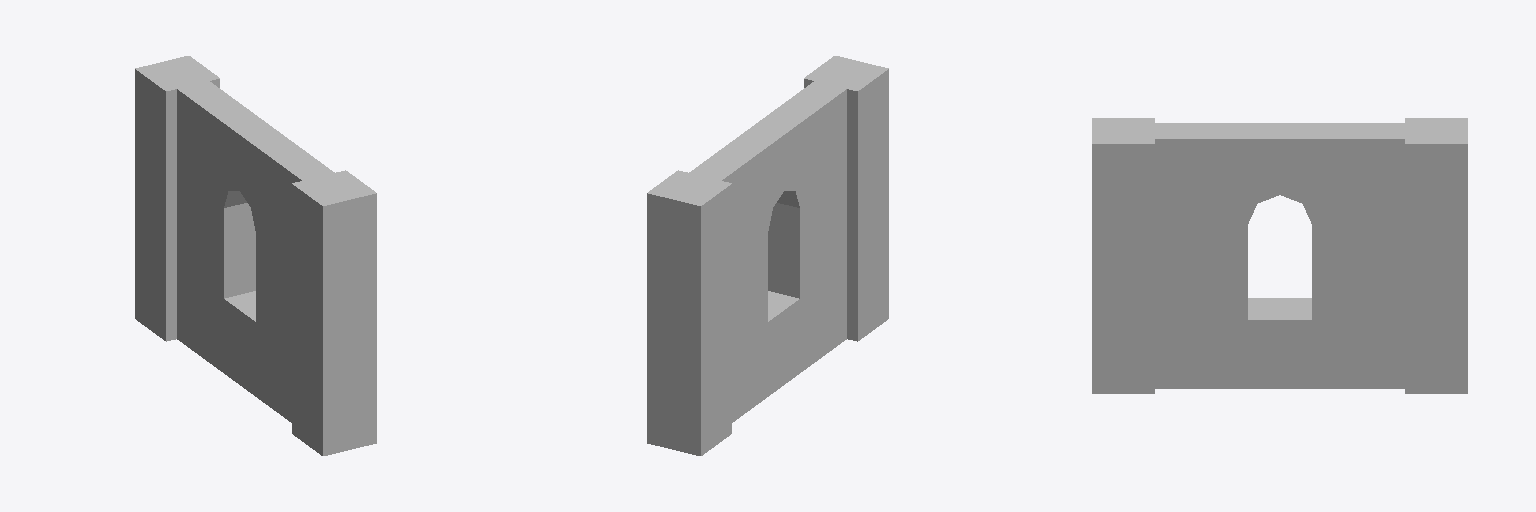
Rendered from Wood_Window_Round_Sill_01.obj.
3 views of the same model, side by side, from view 1: azimuth 30°, elevation 25°; view 2: azimuth 150°, elevation 25°; view 3: azimuth 270°, elevation 25° (orthographic).
Parts seen in each view (by area): view 1: Mesh1 Wood_Window_Round_Sill Model; view 2: Mesh1 Wood_Window_Round_Sill Model; view 3: Mesh1 Wood_Window_Round_Sill Model.
Boxes of the visible parts, <box> form: Mesh1 Wood_Window_Round_Sill Model: <box>135,56,376,455</box>; Mesh1 Wood_Window_Round_Sill Model: <box>647,56,888,455</box>; Mesh1 Wood_Window_Round_Sill Model: <box>1092,118,1467,393</box>.
Size of the model in its own units: 0.5 by 2.2 by 3.